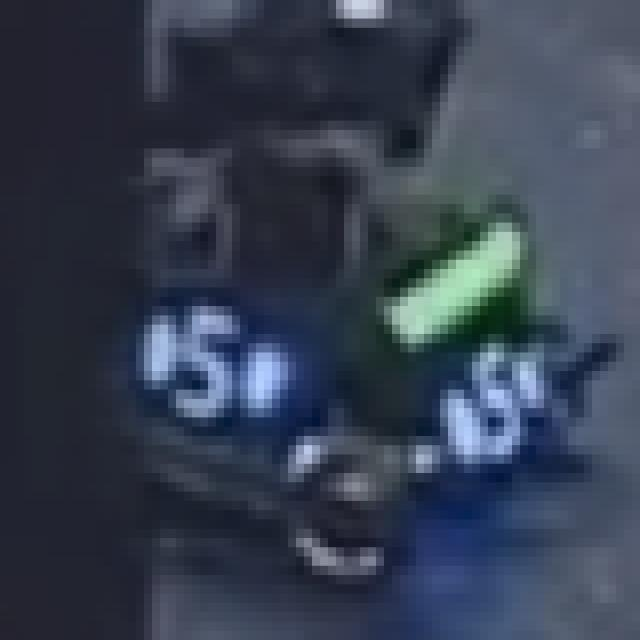B5: (144, 288, 288, 418), (440, 334, 544, 454)
